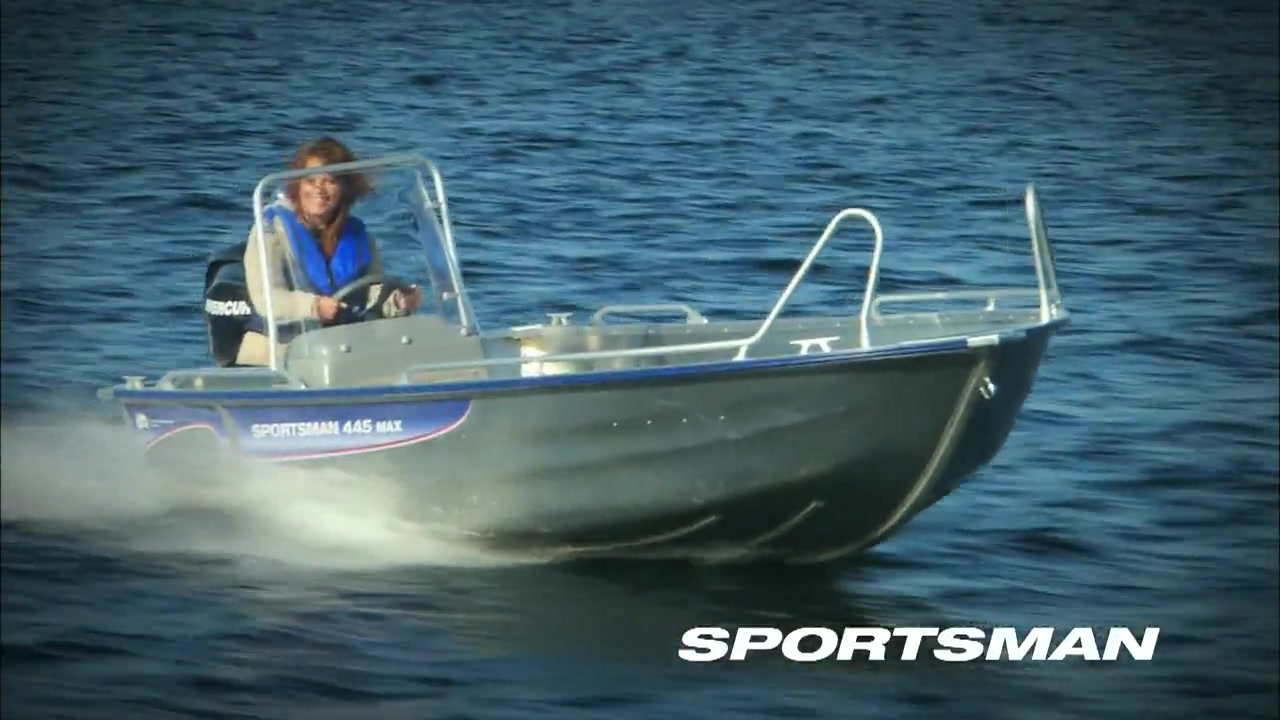boat: (100, 166, 1070, 595)
